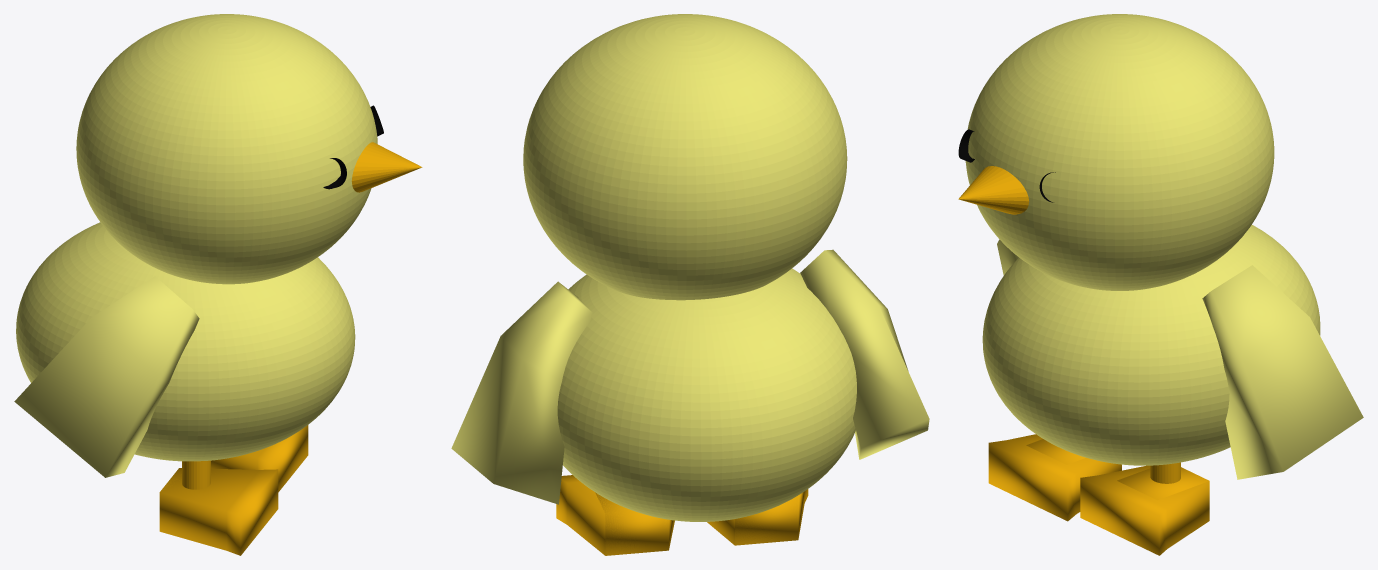
The model's file is Chicken.glb.
3 renders of one model, left to right at view 1: azimuth 30°, elevation 25°; view 2: azimuth 150°, elevation 25°; view 3: azimuth 270°, elevation 25°, orthographic. The views are drawn at different scales.
Parts seen in each view (by area): view 1: Sphere.001, Sphere.002, Cube.002, Cube, Cube.001, Cone, Cylinder; view 2: Sphere.001, Sphere.002, Cube.003, Cube.002, Cube.001, Cube; view 3: Sphere.001, Sphere.002, Cube.003, Cube.001, Cube, Cone, Cylinder.002.
Boxes of the visible parts, bbox=[...] form: Sphere.001: bbox=[76, 14, 377, 284]; Sphere.002: bbox=[16, 222, 355, 461]; Cube.002: bbox=[14, 276, 199, 477]; Cube: bbox=[159, 468, 278, 555]; Cube.001: bbox=[211, 425, 308, 492]; Cone: bbox=[351, 142, 422, 192]; Cylinder: bbox=[182, 460, 210, 489]; Sphere.001: bbox=[523, 14, 847, 300]; Sphere.002: bbox=[557, 268, 856, 521]; Cube.003: bbox=[451, 281, 592, 504]; Cube.002: bbox=[800, 249, 929, 459]; Cube.001: bbox=[556, 475, 674, 555]; Cube: bbox=[707, 489, 808, 545]; Sphere.001: bbox=[965, 14, 1274, 290]; Sphere.002: bbox=[982, 225, 1320, 465]; Cube.003: bbox=[1202, 265, 1363, 479]; Cube.001: bbox=[1080, 465, 1209, 555]; Cube: bbox=[988, 434, 1121, 521]; Cone: bbox=[958, 166, 1029, 214]; Cylinder.002: bbox=[1150, 462, 1180, 483].
Size of the model in its own units: 2.46 by 3.06 by 2.35.
